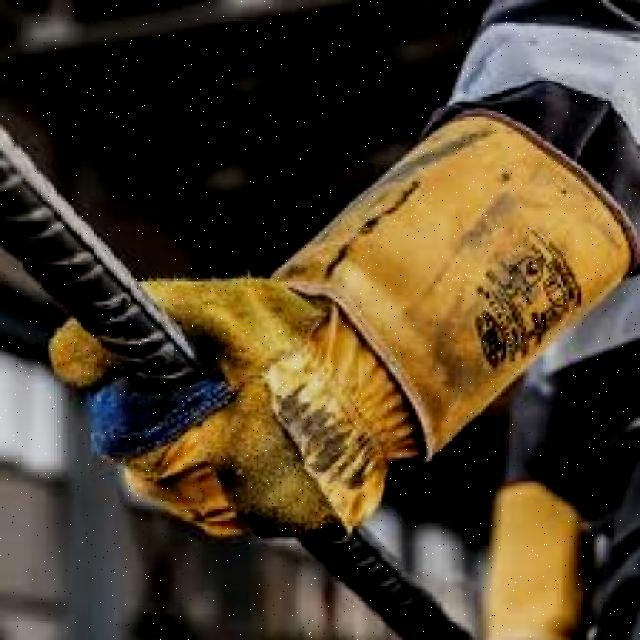Gloves: (24, 100, 624, 542)
